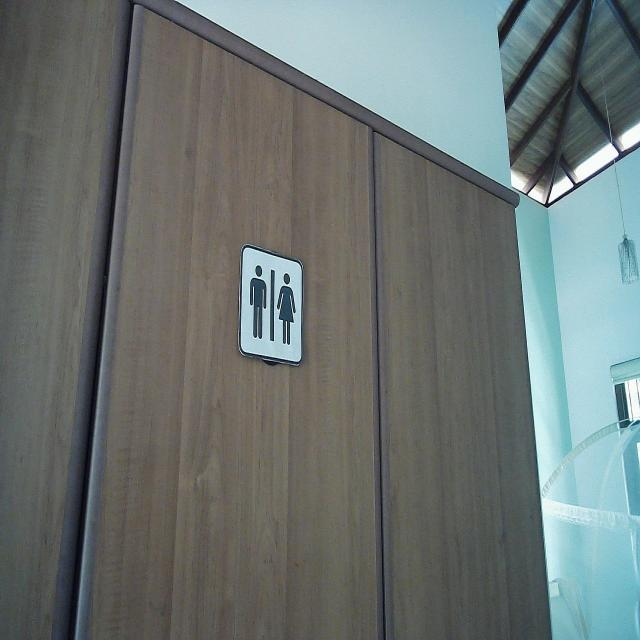restroom: (236, 240, 306, 369)
